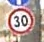limite 30: (6, 7, 35, 35)
